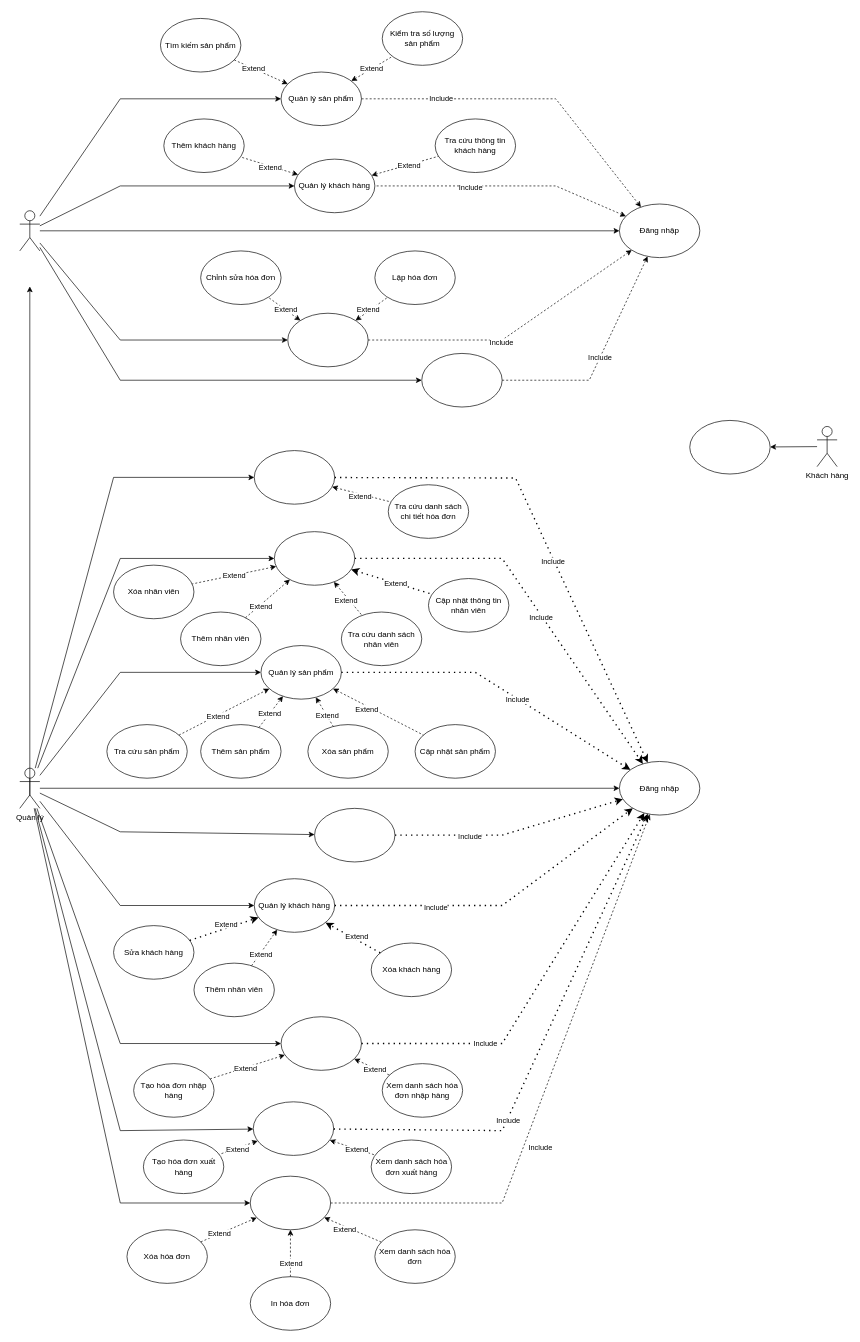
The diagram is 860 pixels wide and 1342 high, and some of its shapes have lost their labels. The box of each missing label's shape, as (x1, y1, x2, y2) in pixels:
Mua hàng: (689, 420, 770, 474)
Nhân viên: (19, 210, 40, 251)
Quản lý chi tiết hóa đơn: (254, 450, 335, 504)
Quản lý hóa đơn: (250, 1176, 331, 1230)
Quản lý nhân viên: (274, 531, 355, 585)
Quản lý nhập kho: (280, 1016, 361, 1070)
Quản lý Xuất Kho: (253, 1101, 334, 1155)
Thống kê: (314, 808, 395, 862)
Xử lý bán hàng: (287, 313, 368, 367)
Đăng Xuất: (421, 353, 502, 407)
